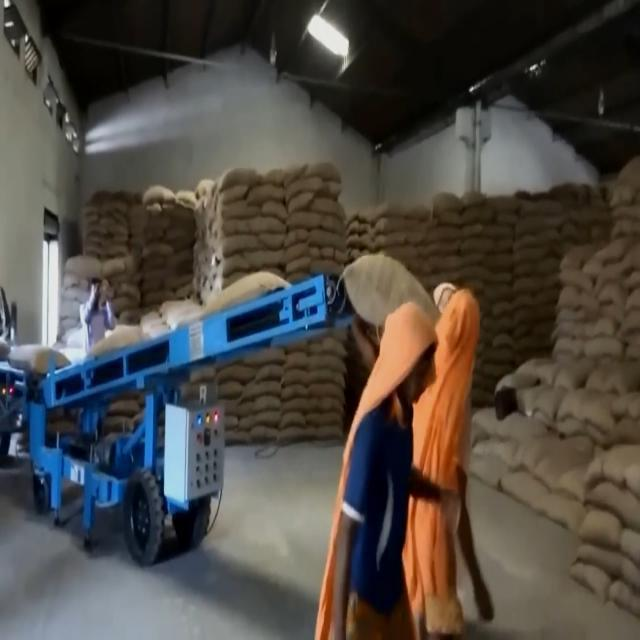gunny_bag: (340, 262, 437, 328), (202, 272, 287, 325), (90, 325, 163, 353)
